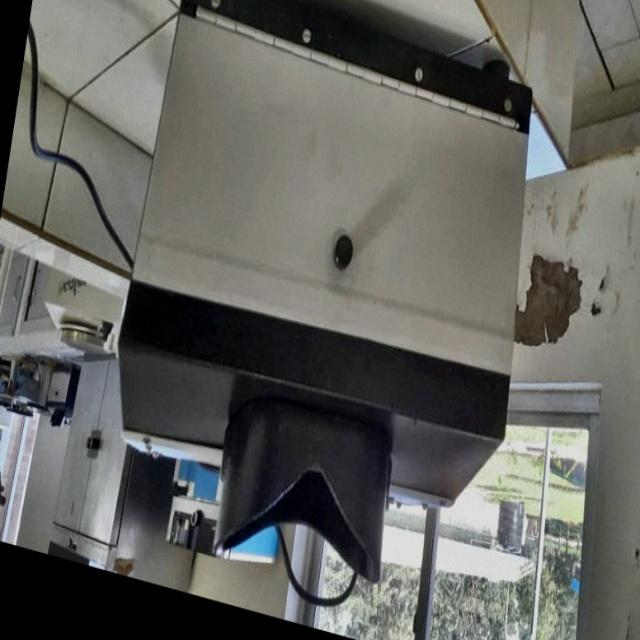U.V Cabinet: (94, 0, 560, 626)
